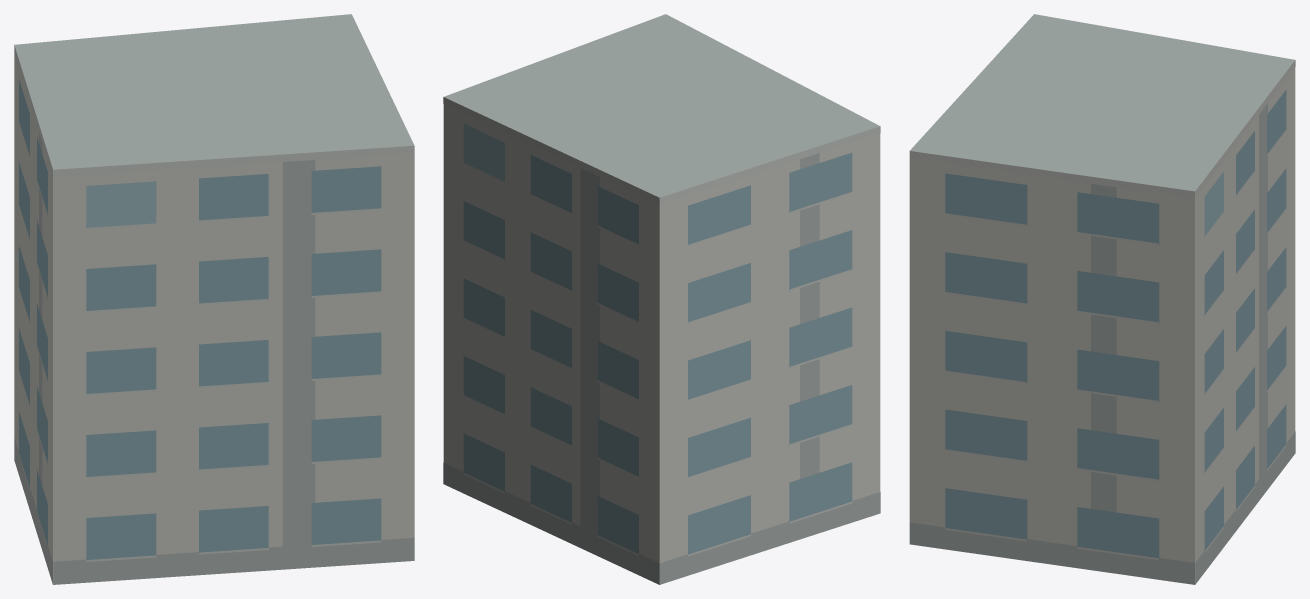
File: survey-upis-32946611.glb
The picture shows the model from 3 angles, left to right: view 1: azimuth 30°, elevation 25°; view 2: azimuth 150°, elevation 25°; view 3: azimuth 270°, elevation 25°; orthographic projection. The views are drawn at different scales.
Parts seen in each view (by area): view 1: survey-upis-32946611.tmp; view 2: survey-upis-32946611.tmp; view 3: survey-upis-32946611.tmp.
Part boxes in pixels (x1,y1,x2,y2): survey-upis-32946611.tmp: (14,14,414,584); survey-upis-32946611.tmp: (443,14,880,584); survey-upis-32946611.tmp: (909,14,1295,584).
Bounding box in the file's own units: 12.92 × 13.35 × 11.87.
